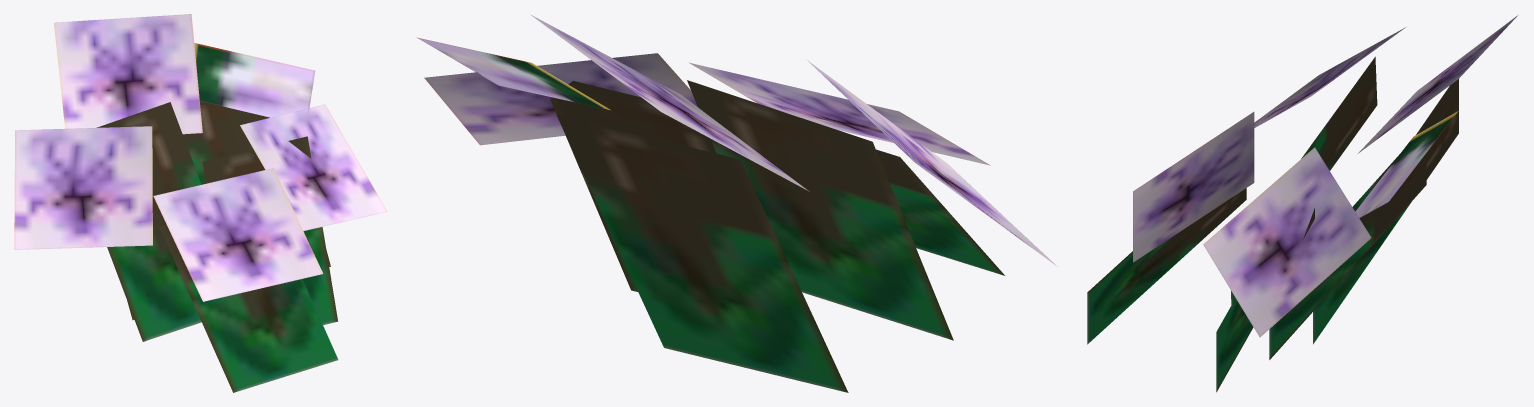
File: flw_violet_wt.dae
3 renders of one model, left to right at view 1: azimuth 30°, elevation 25°; view 2: azimuth 150°, elevation 25°; view 3: azimuth 270°, elevation 25°, orthographic. The views are drawn at different scales.
Parts seen in each view (by area): view 1: flw_violet_wt; view 2: flw_violet_wt; view 3: flw_violet_wt.
Part boxes in pixels (box(x1,y1,x2,y2)): flw_violet_wt: box(14, 14, 387, 392); flw_violet_wt: box(417, 14, 1057, 392); flw_violet_wt: box(1087, 15, 1517, 392).
Bounding box in the file's own units: 29.91 × 19.78 × 26.85.
1 material, 1 textured.
